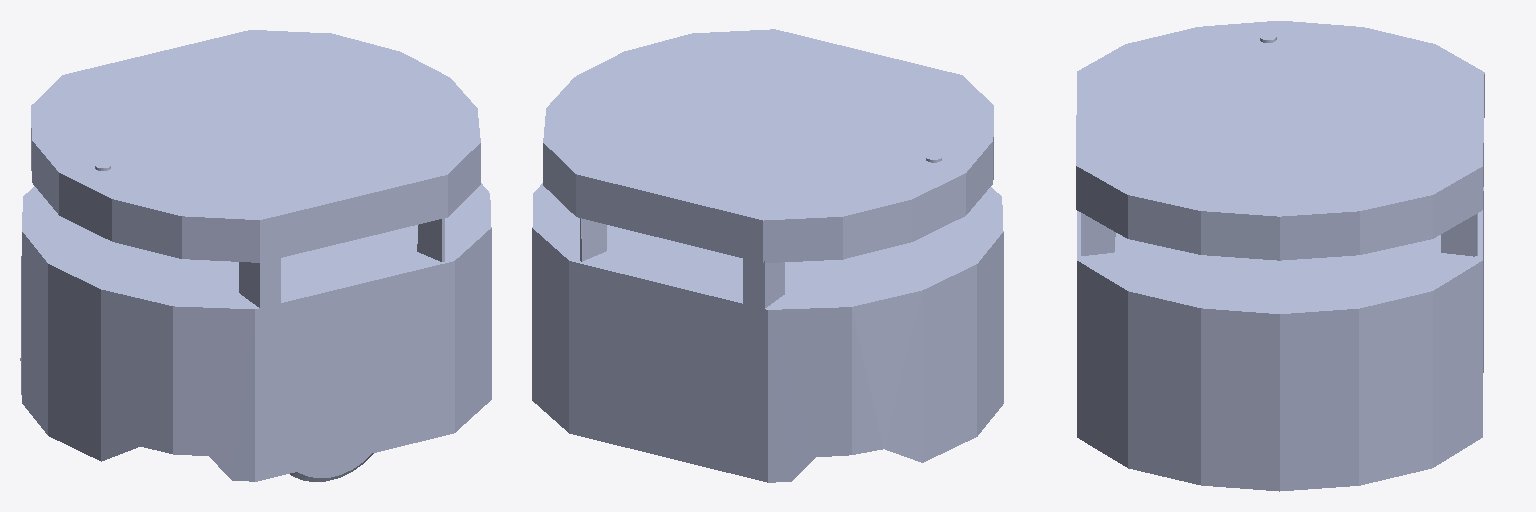
The robot description file, URDF, robot "patrolbot_description":
<?xml version="1.0" encoding="utf-8"?>
<!-- This URDF was automatically created by SolidWorks to URDF Exporter! Originally created by [author] ([email redacted]) 
     Commit Version: 1.6.0-1-g15f4949  Build Version: 1.6.7594.29634
     For more information, please see http://wiki.ros.org/sw_urdf_exporter -->
<robot name="patrolbot_description">
  <link name="base_link">
    <inertial>
      <origin xyz="-4.0871E-05 -1.3082E-06 0.18" rpy="0 0 0" />
      <mass value="34.858" />
      <inertia ixx="0.0080128" ixy="8.4152E-06" ixz="0.00010815" iyy="1.0005" iyz="3.4516E-06" izz="1.5171" />
    </inertial>
    <visual>
      <origin xyz="0 0 0" rpy="0 0 0" />
      <geometry>
        <mesh filename="package://patrolbot_description/meshes/hull.stl" scale="1 1 1"/>
      </geometry>
      <material name="">
        <color rgba="0.79216 0.81961 0.93333 1" />
      </material>
    </visual>
    <collision>
      <origin xyz="0 0 0" rpy="0 0 0" />
      <geometry>
        <mesh filename="package://patrolbot_description/meshes/hull.stl" scale="1 1 1"/>
      </geometry>
    </collision>
  </link>
  <link name="left_wheel_link">
    <inertial>
      <origin xyz="0.0375 -5.5511E-17 -3.3307E-16" rpy="0 0 0" />
      <mass value="2.1507" />
      <inertia ixx="0.0099942" ixy="-1.5304E-22" ixz="-9.8205E-20" iyy="0.0058914" iyz="0" izz="0.0058914" />
    </inertial>
    <visual>
      <origin xyz="0 0 -0.005" rpy="0 0 0" />
      <geometry>
        <mesh filename="package://patrolbot_description/meshes/left_wheel.stl" />
      </geometry>
      <material name="">
        <color rgba="0.79216 0.81961 0.93333 1" />
      </material>
    </visual>
    <collision>
      <origin xyz="0 0 0" rpy="0 0 0" />
      <geometry>
        <mesh filename="package://patrolbot_description/meshes/left_wheel_link.STL" />
      </geometry>
    </collision>
  </link>
  <joint name="left_wheel_joint" type="continuous">
    <origin xyz="0 0.1415 0.0495" rpy="1.5672 0 1.5708" />
    <parent link="base_link" />
    <child link="left_wheel_link" />
    <axis xyz="1 0 0" />
    <limit effort="400" velocity="12.6" />
  </joint>
  <link name="right_wheel_link">
    <inertial>
      <origin xyz="-0.00029672 -1.1102E-16 1.1102E-16" rpy="0 0 0" />
      <mass value="2.1507" />
      <inertia ixx="0.0099942" ixy="9.0771E-18" ixz="-8.6087E-18" iyy="0.0058914" iyz="0" izz="0.0058914" />
    </inertial>
    <visual>
      <origin xyz="0 0 -0.005" rpy="0 0 0" />
      <geometry>
        <mesh filename="package://patrolbot_description/meshes/right_wheel.stl" />
      </geometry>
      <material name="">
        <color rgba="0.79216 0.81961 0.93333 1" />
      </material>
    </visual>
    <collision>
      <origin xyz="0 0 0" rpy="0 0 0" />
      <geometry>
        <mesh filename="package://patrolbot_description/meshes/right_wheel_link.STL" />
      </geometry>
    </collision>
  </link>
  <joint name="right_wheel_joint" type="continuous">
    <origin xyz="0 -0.1787 0.0495" rpy="0.75508 0 1.5708" />
    <parent link="base_link" />
    <child link="right_wheel_link" />
    <axis xyz="1 0 0" />
    <limit effort="200" velocity="6.28" />
  </joint>
</robot>

--- Facts derived from the render (not from the file) ---
The picture shows the robot from 3 angles, left to right: view 1: azimuth 30°, elevation 25°; view 2: azimuth 150°, elevation 25°; view 3: azimuth 270°, elevation 25°; orthographic projection.
Model patrolbot_description with 3 links and 2 joints (2 continuous), rooted at base_link, posed all joints at 0.
Visible links, largest first — view 1: base_link, right_wheel_link; view 2: base_link; view 3: base_link.
Boxes of the visible links, x1=… form: base_link: x1=20, y1=30, x2=491, y2=481; right_wheel_link: x1=290, y1=453, x2=373, y2=481; base_link: x1=532, y1=29, x2=1003, y2=482; base_link: x1=1076, y1=21, x2=1484, y2=491.
Bounding box of the posed robot: 0.58 × 0.4809 × 0.401 m (x, y, z).
Meshes: 3 distinct files referenced, 3 mesh visuals loaded (3 binary STL).